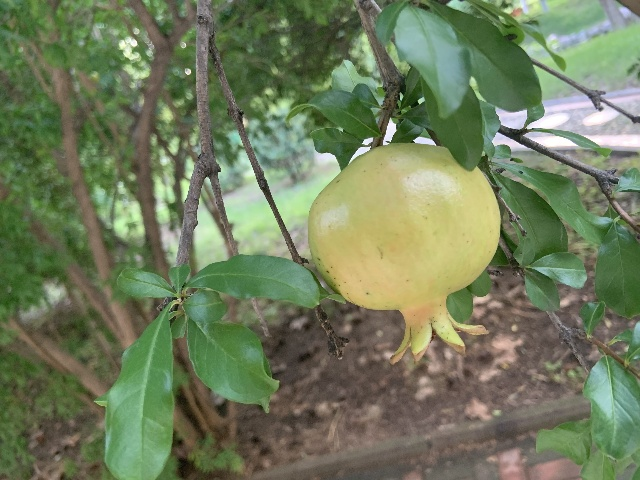mid-growth: (306, 142, 500, 370)
